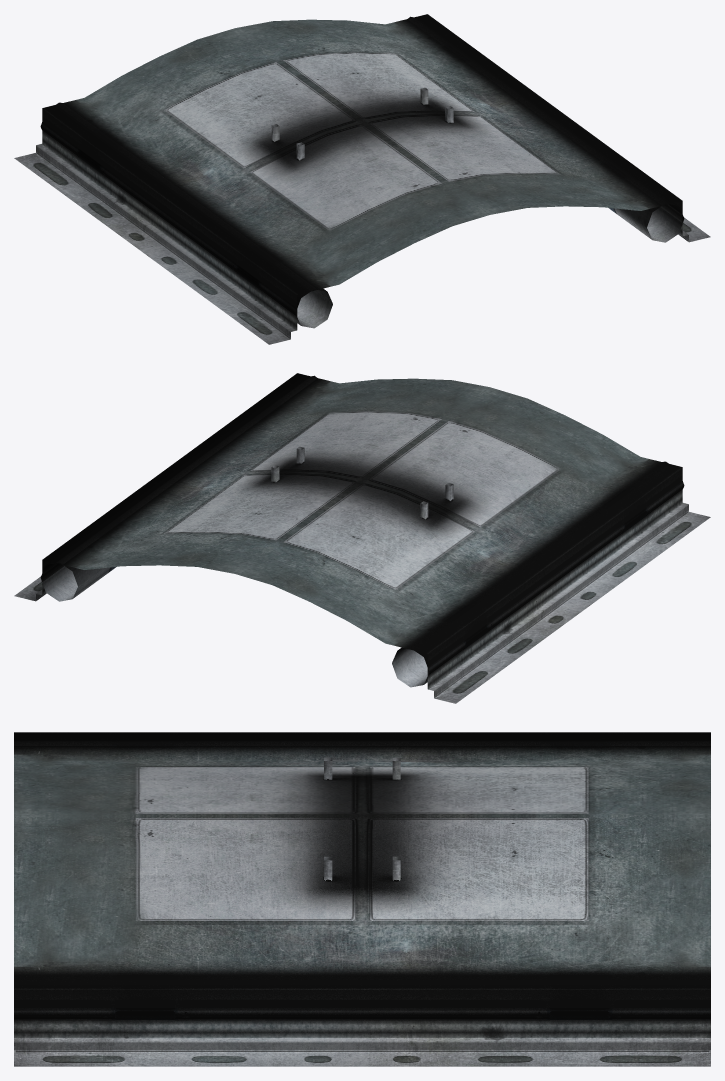
File: Roof1.fbx
3 renders of one model, top to bottom at view 1: azimuth 30°, elevation 25°; view 2: azimuth 150°, elevation 25°; view 3: azimuth 270°, elevation 25°, orthographic. The views are drawn at different scales.
Visible parts, largest first — view 1: Roof1; view 2: Roof1; view 3: Roof1.
Part boxes in pixels (box(x1,y1,x2,y2)): Roof1: box(14, 14, 710, 344); Roof1: box(14, 373, 710, 703); Roof1: box(14, 732, 710, 1066).
Size of the model in its own units: 200 by 35.01 by 200.
